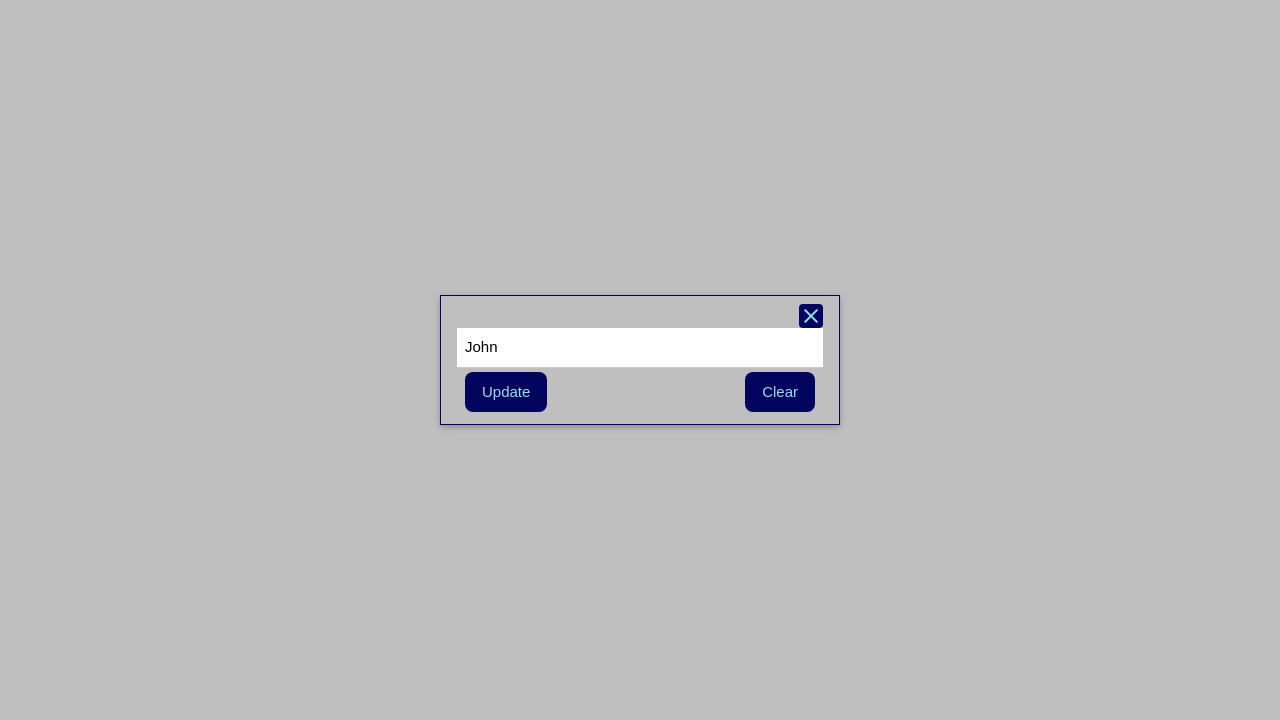
Test: FormMsgInput Component › Value
The width and height of the screenshot is (1280, 720).
Type "Doe" into the field.
click(640, 348); type("Doe")  # box [457,328,823,368]
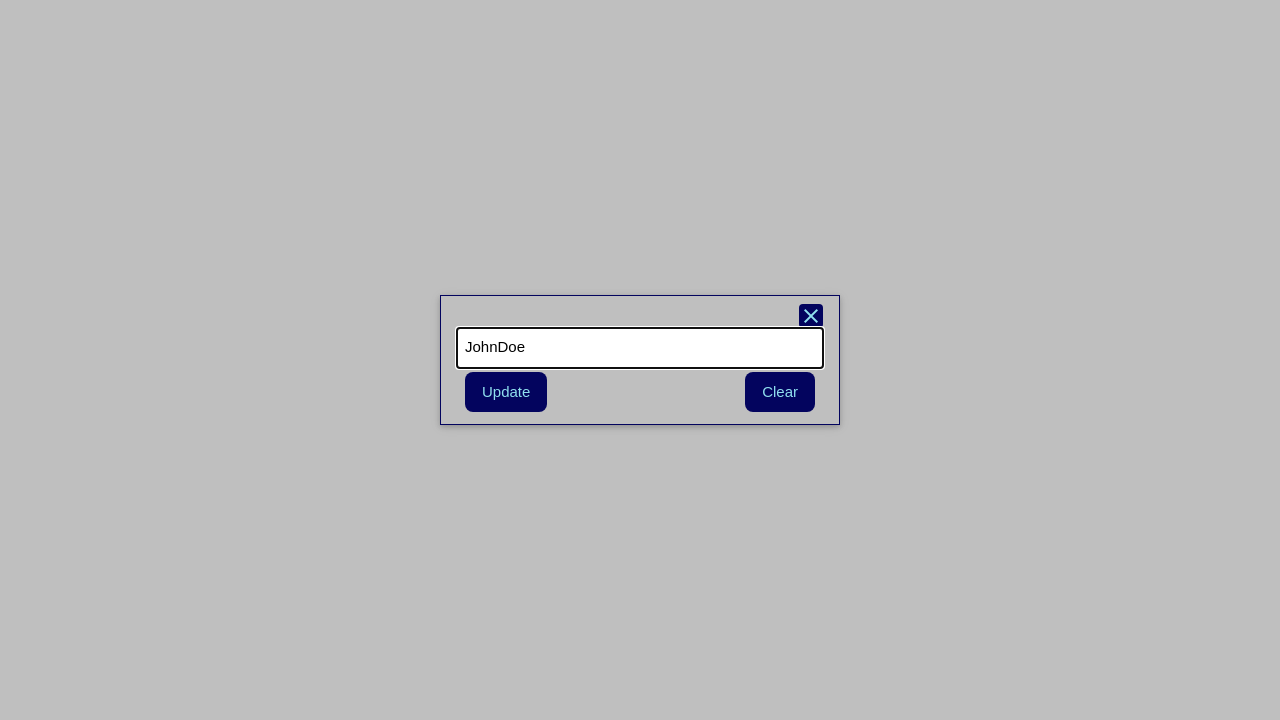
Expected: the field holds "JohnDoe", [457,328,823,368]
